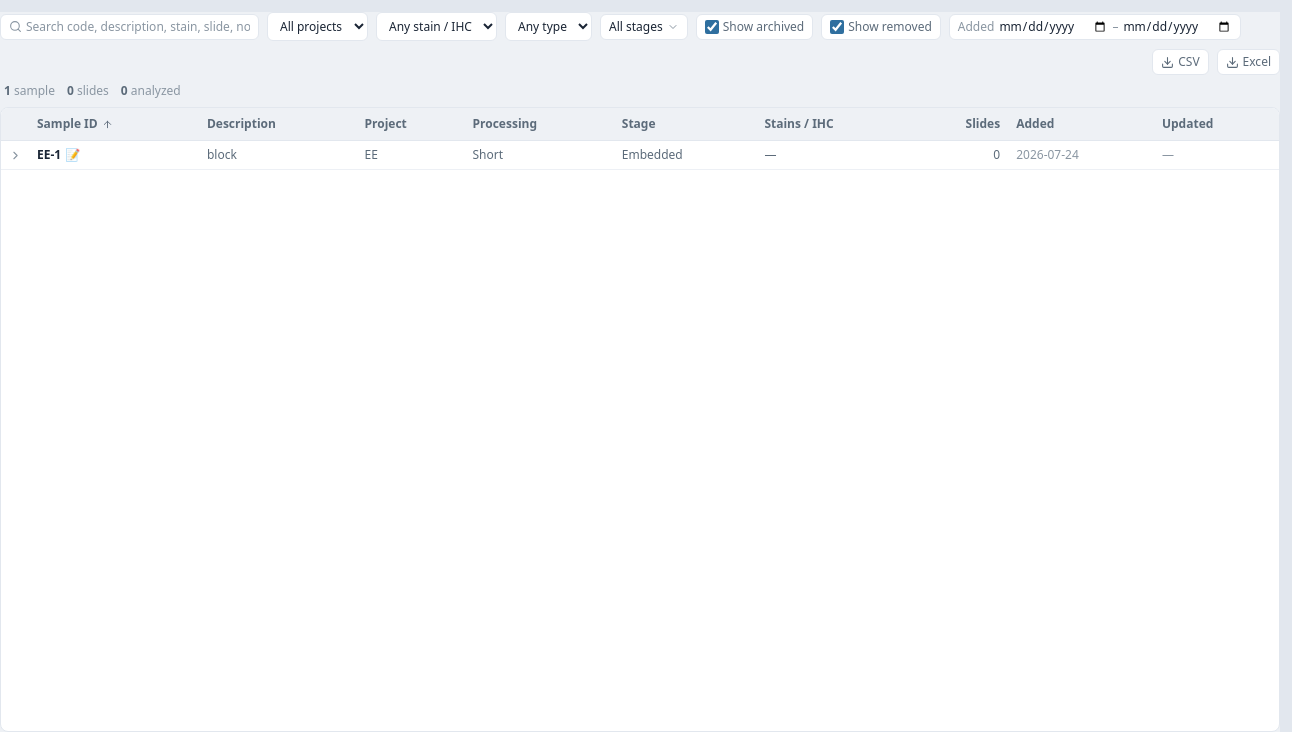
Test: LogsView — correcting a sample's notes › reads every one of the four notes back in the expanded row
Click the text "EE-1" at coordinates (59, 155), box x1=37 y1=147 x2=80 y2=163
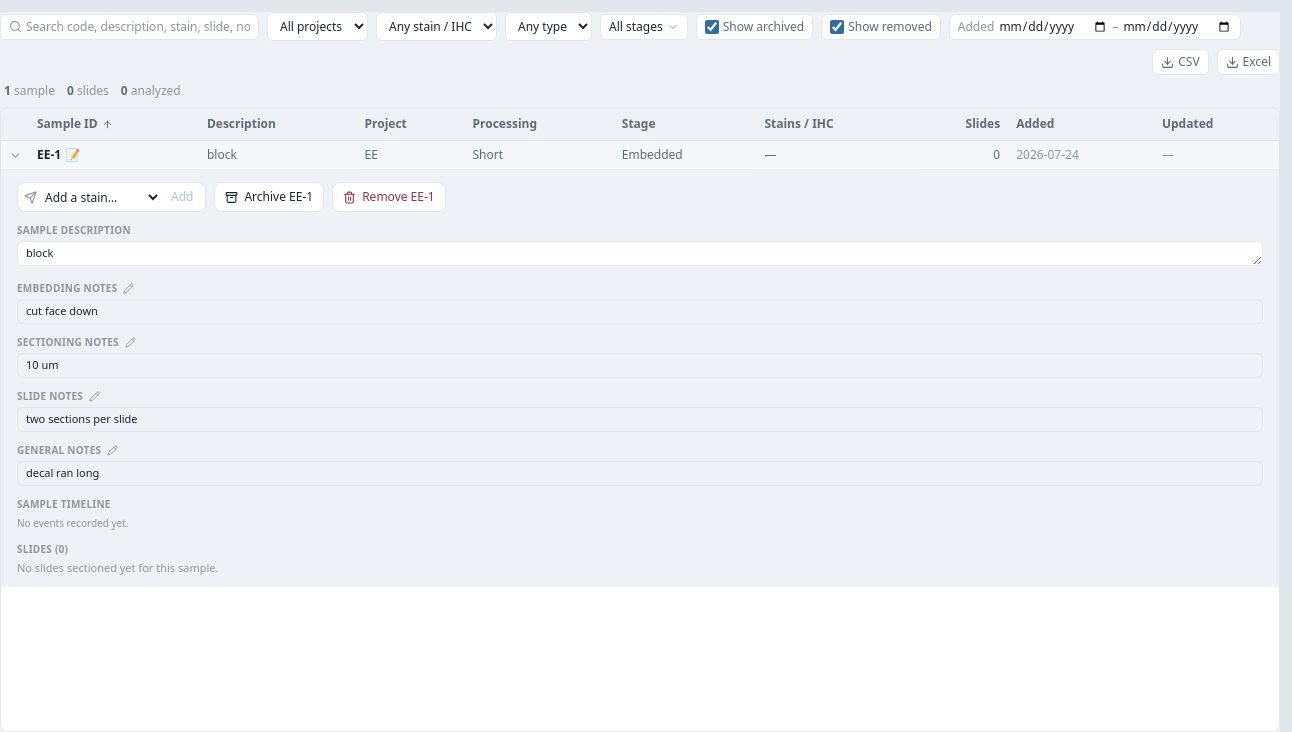
Expected: the text named "Embedding Notes for EE-1" reads "cut face down", x1=26 y1=303 x2=98 y2=318
Expected: the text named "Sectioning Notes for EE-1" reads "10 um", x1=26 y1=357 x2=58 y2=372
Expected: the text named "General Notes for EE-1" reads "decal ran long", x1=26 y1=465 x2=99 y2=480
